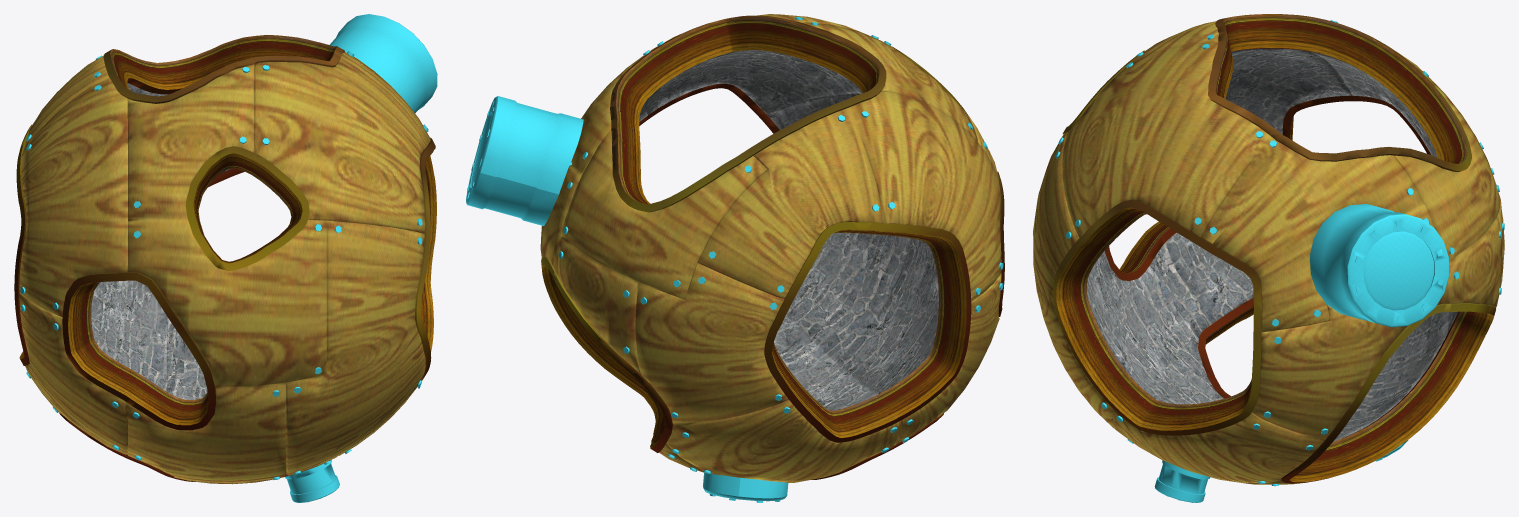
Rendered from Planete_boulon.fbx.
3 views of the same model, side by side, from view 1: azimuth 30°, elevation 25°; view 2: azimuth 150°, elevation 25°; view 3: azimuth 270°, elevation 25° (orthographic).
Parts seen in each view (by area): view 1: Exterrieur_boule, Milieu (×4), Haut (×5), Interrieur_boule, Gros_tuyau_2, Gros_tuyau_1; view 2: Exterrieur_boule, Interrieur_boule, Milieu (×3), Gros_tuyau_2, Haut (×3), Gros_tuyau_3, Bas; view 3: Exterrieur_boule, Interrieur_boule, Milieu (×4), Gros_tuyau_2, Haut (×3), Bas (×3), Gros_tuyau_1.
Boxes of the visible parts, bbox=[...] form: Exterrieur_boule: bbox=[19, 52, 430, 484]; Milieu (×4): bbox=[68, 35, 436, 425]; Haut (×5): bbox=[14, 47, 435, 430]; Interrieur_boule: bbox=[91, 83, 231, 399]; Gros_tuyau_2: bbox=[330, 14, 437, 113]; Gros_tuyau_1: bbox=[284, 460, 339, 502]; Exterrieur_boule: bbox=[540, 14, 1001, 482]; Interrieur_boule: bbox=[639, 50, 938, 410]; Milieu (×3): bbox=[542, 16, 966, 448]; Gros_tuyau_2: bbox=[466, 96, 583, 225]; Haut (×3): bbox=[541, 15, 971, 452]; Gros_tuyau_3: bbox=[703, 472, 788, 502]; Bas: bbox=[639, 83, 779, 133]; Exterrieur_boule: bbox=[1033, 21, 1504, 484]; Interrieur_boule: bbox=[1087, 48, 1458, 441]; Milieu (×4): bbox=[1056, 14, 1493, 482]; Gros_tuyau_2: bbox=[1310, 204, 1449, 327]; Haut (×3): bbox=[1052, 18, 1495, 483]; Bas (×3): bbox=[1105, 95, 1430, 398]; Gros_tuyau_1: bbox=[1154, 460, 1210, 502].
Size of the model in its own units: 3355 by 3063 by 2970.
